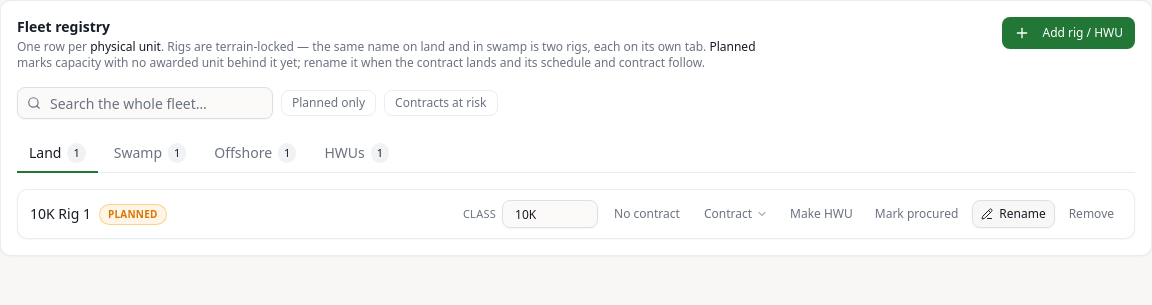
Test: ResourceRegistryPanel › search scopes across ALL tabs — matches can't hide behind the active tab
Check: the text "10K Rig 1" is shown, box 30,204 -> 91,224
Type "HWU" into the field named "Search fleet".
click(145, 103); type("HWU")  # box 17,87 -> 273,119
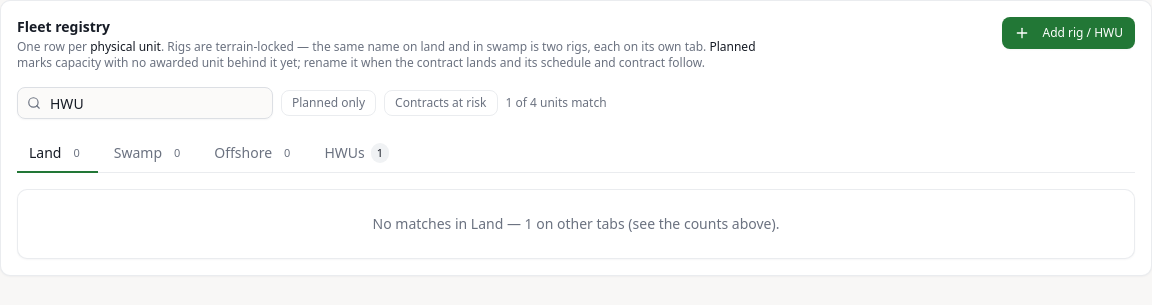
Check: the text "No matches in Land — 1 on other tabs (see the counts above)." is shown, box 373,214 -> 780,233
Check: the text "1 of 4 units match" is shown, box 506,95 -> 607,111
# …and the HWUs tab shows the match.
Click the button "HWUs 1".
click(357, 154)  # box 312,135 -> 401,173
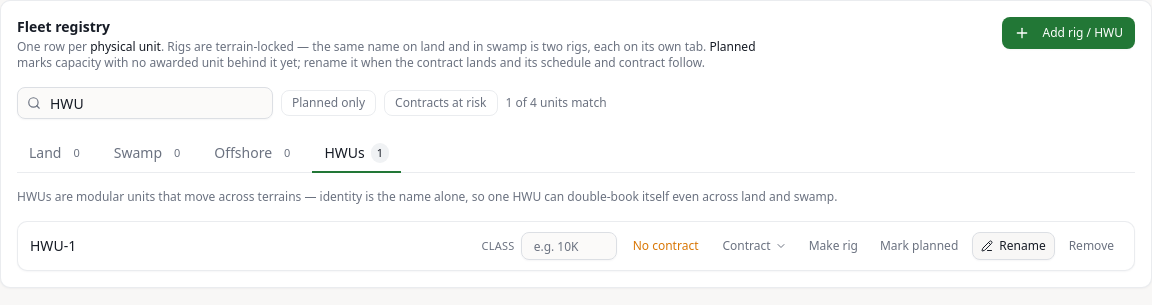
Check: the text "HWU-1" is shown, box 30,236 -> 76,256
